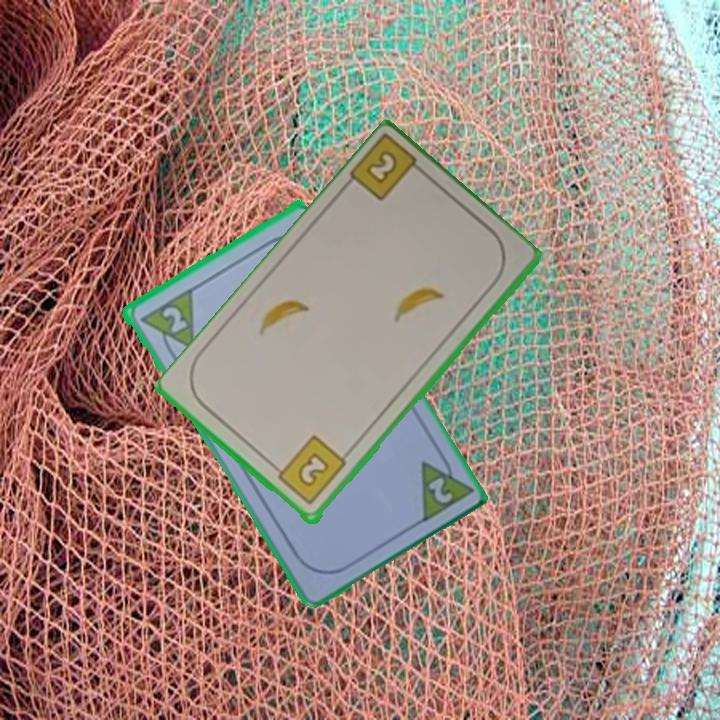2b: (269, 432, 350, 509), (345, 134, 431, 205)
2p: (157, 302, 190, 336), (423, 473, 455, 507)
